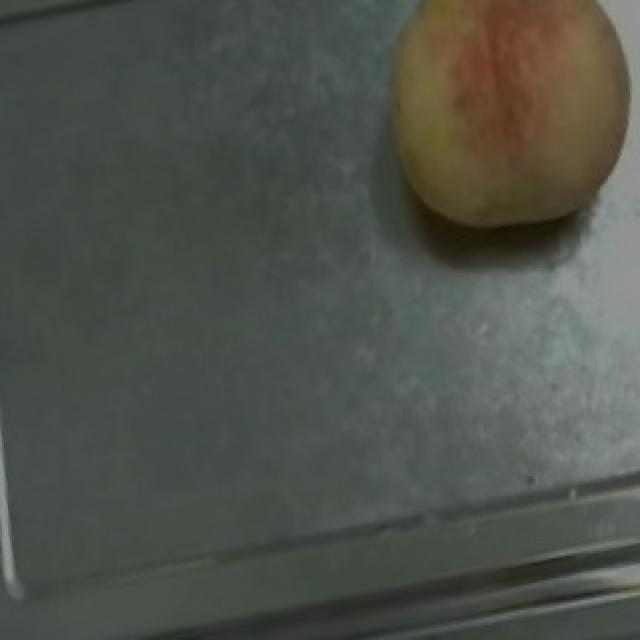Fruit: (350, 0, 640, 256)
